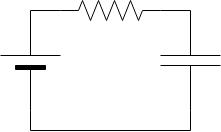Capacitor: (144, 37, 219, 82)
